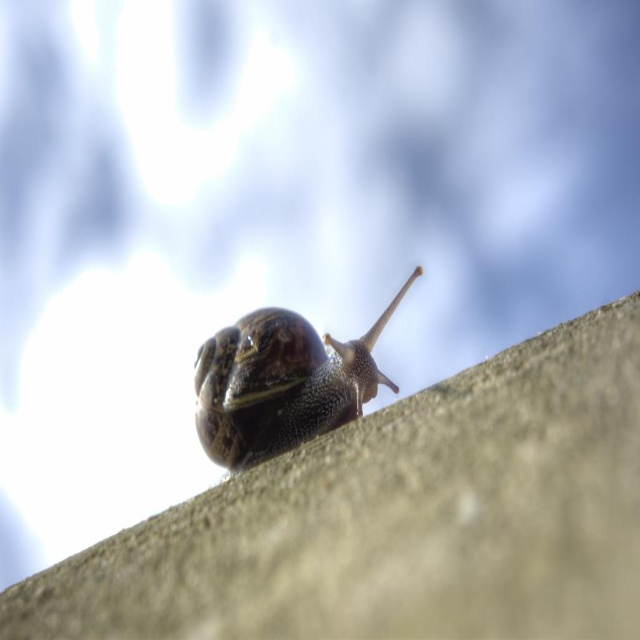Snail: (188, 266, 420, 483)
